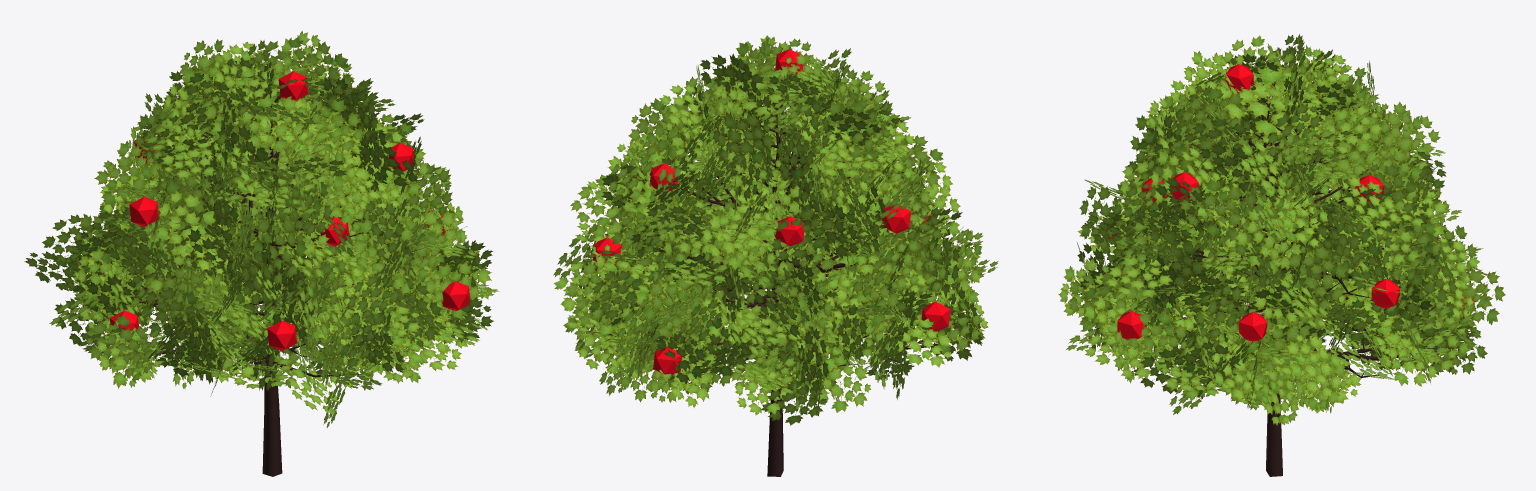
File: orchard_tree.fbx
3 views of the same model, side by side, from view 1: azimuth 30°, elevation 25°; view 2: azimuth 150°, elevation 25°; view 3: azimuth 270°, elevation 25° (orthographic).
Parts seen in each view (by area): view 1: tree; view 2: tree; view 3: tree.
Boxes of the visible parts, <box> form: tree: <box>24,30,499,476</box>; tree: <box>553,35,998,476</box>; tree: <box>1058,34,1505,476</box>.
Size of the model in its own units: 857 by 841 by 827.
